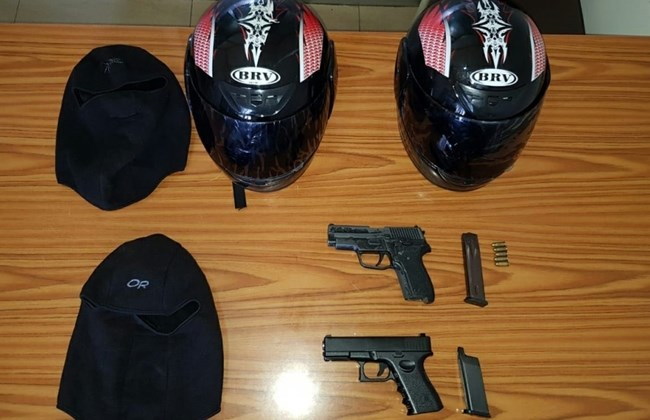helmet: (177, 0, 352, 193), (390, 0, 545, 194)
